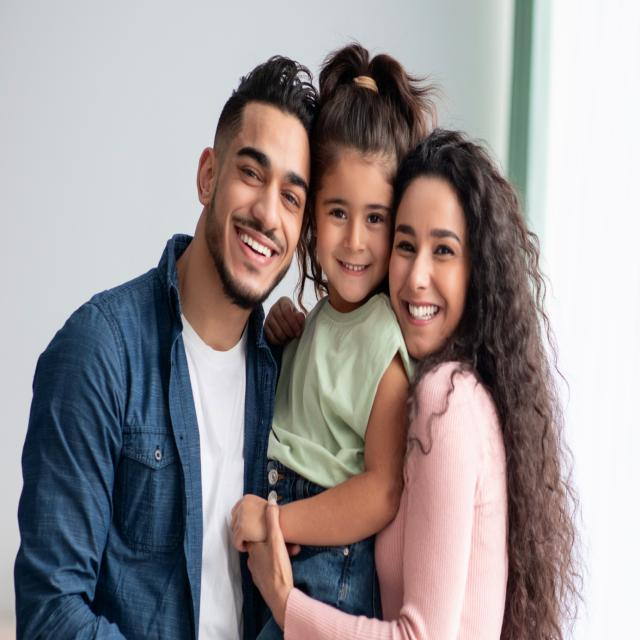adult: (11, 51, 311, 640), (244, 127, 574, 640)
child: (229, 39, 419, 622)
